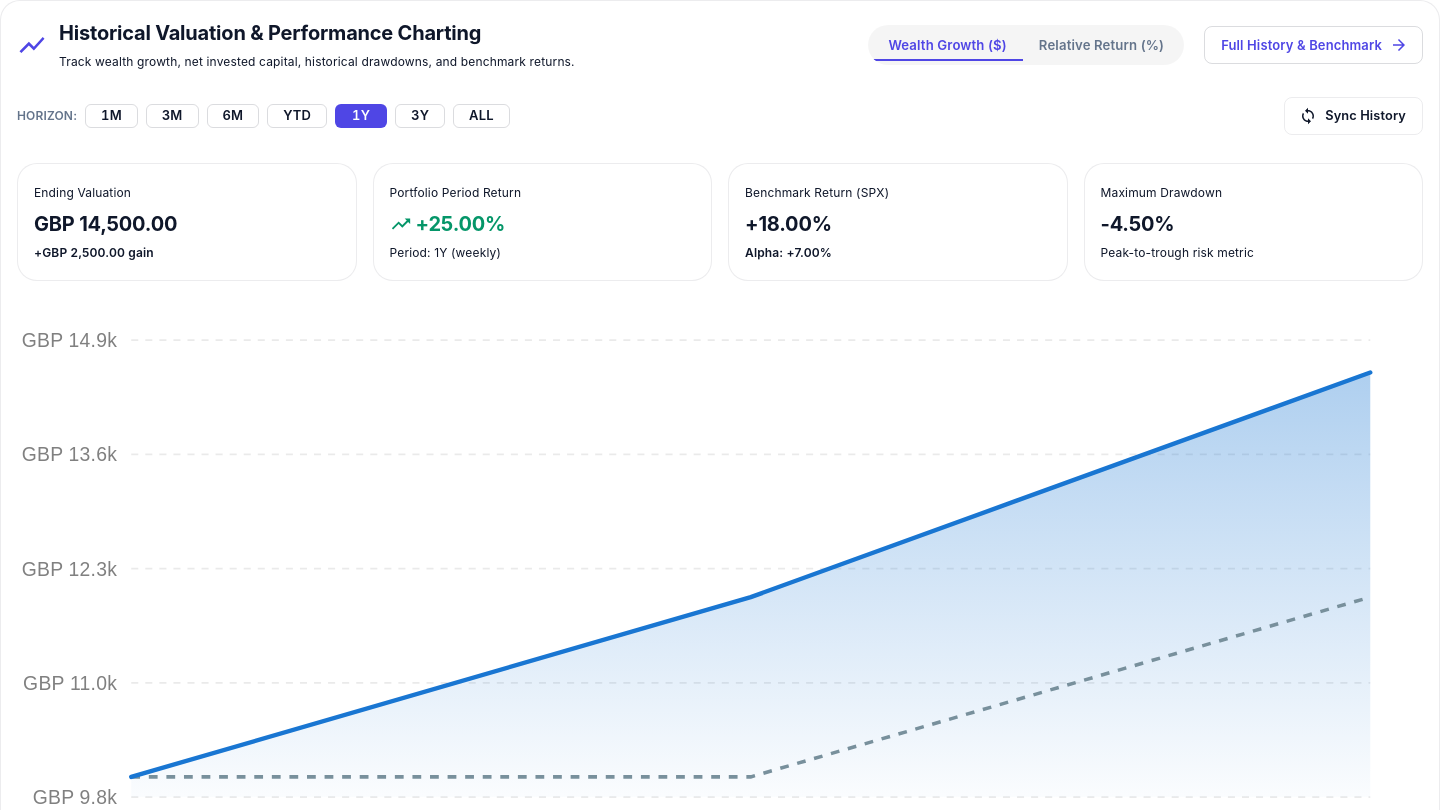
Test: Historical Valuation & Benchmark Charting UI › allows toggling time horizons and mode tabs
Expected: the heading "Historical Valuation & Performance Charting" is shown, [59,21,481,45]
Note: Click 6M horizon chip
What coordinates should you click on to do the following:
click the button "6M"
I would click on:
 (233, 116)
Its box is [206,104,259,128].
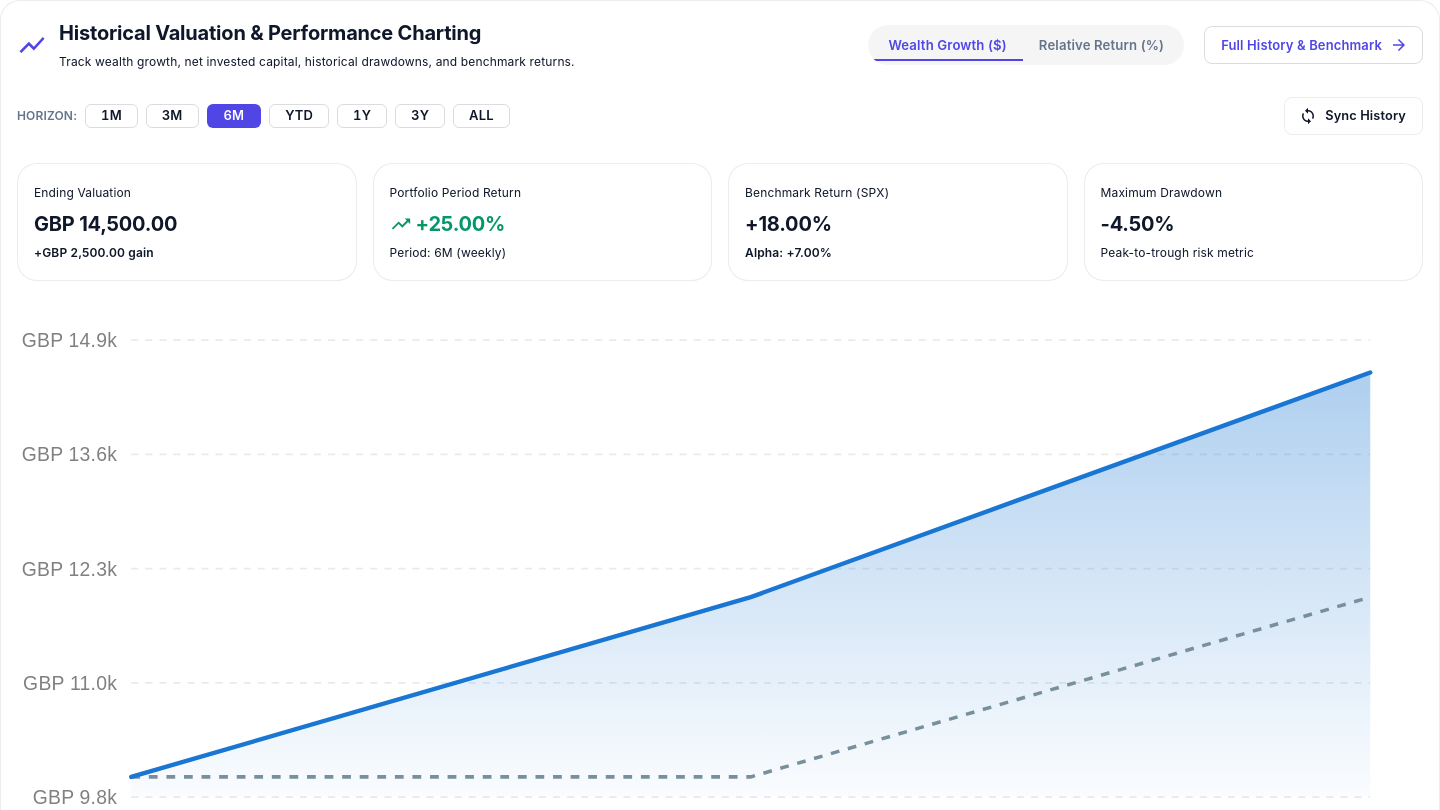
What coordinates should you click on to do the following:
click the tab "Relative Return (%)"
I would click on:
 (1102, 45)
Its box is [1023,29,1180,61].
(page scrolled)
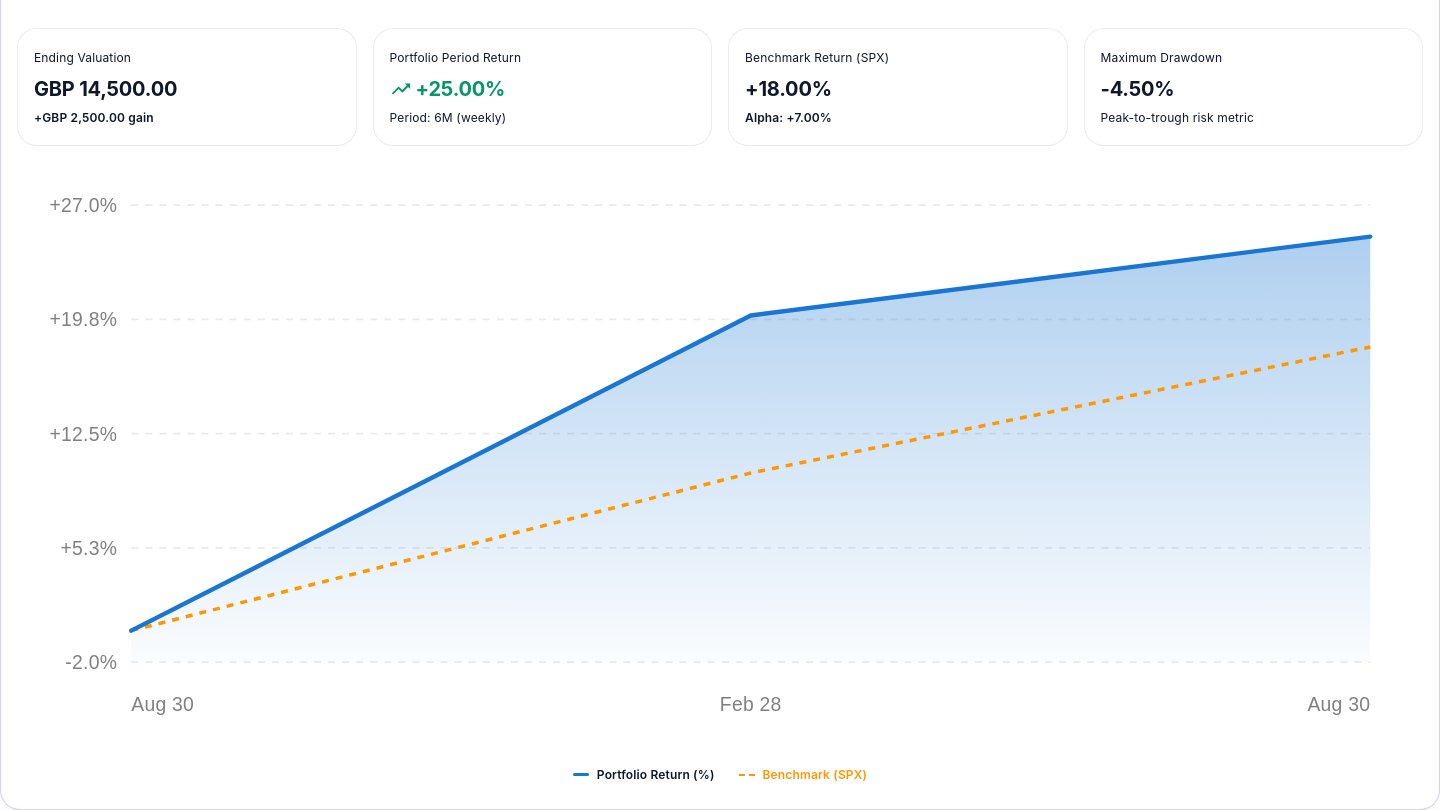
Result: the text "Portfolio Return (%)" is shown at [597,765,714,785]
